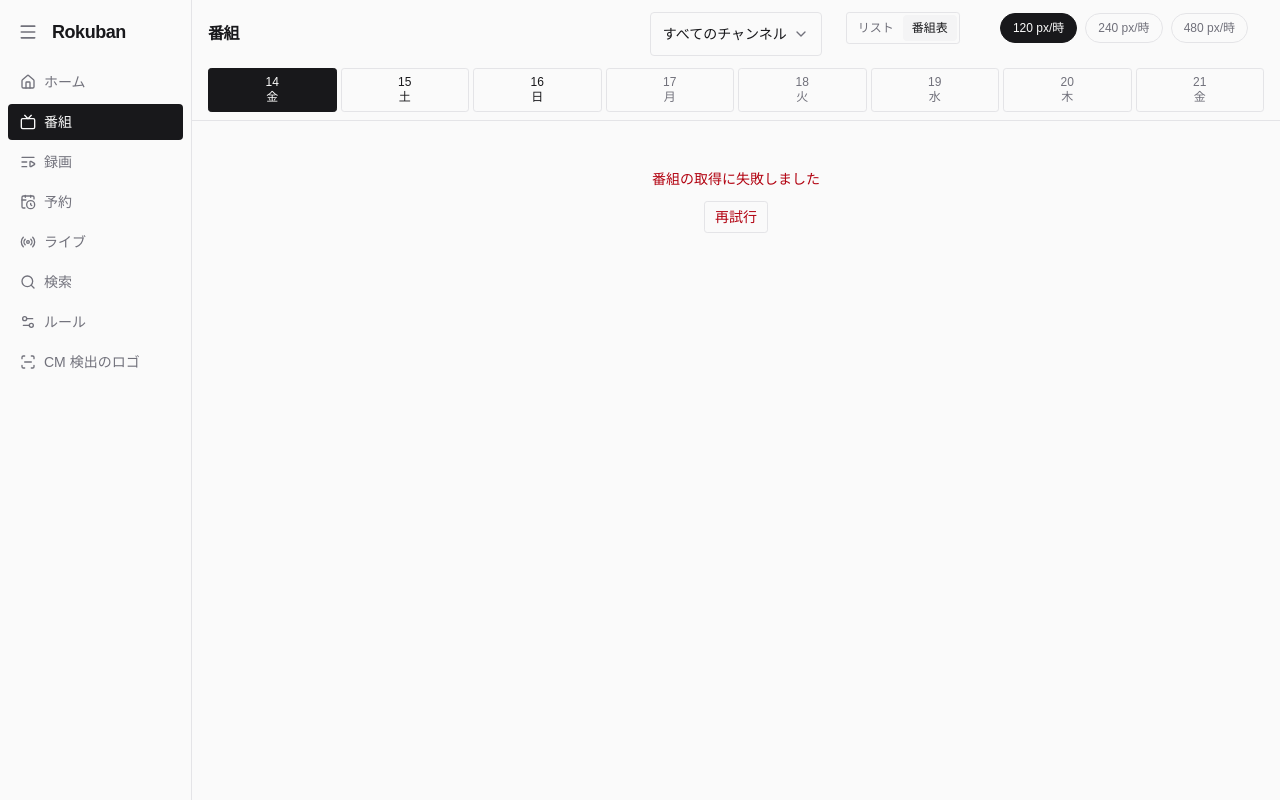
Scenario: ProgramsPage の表示形式 › グリッドの再試行は services の失敗も取り直す
Expected: the text "番組の取得に失敗しました" is shown, x1=652 y1=169 x2=820 y2=189
Click the button "再試行". click: (736, 217)
box: x1=704 y1=201 x2=768 y2=233
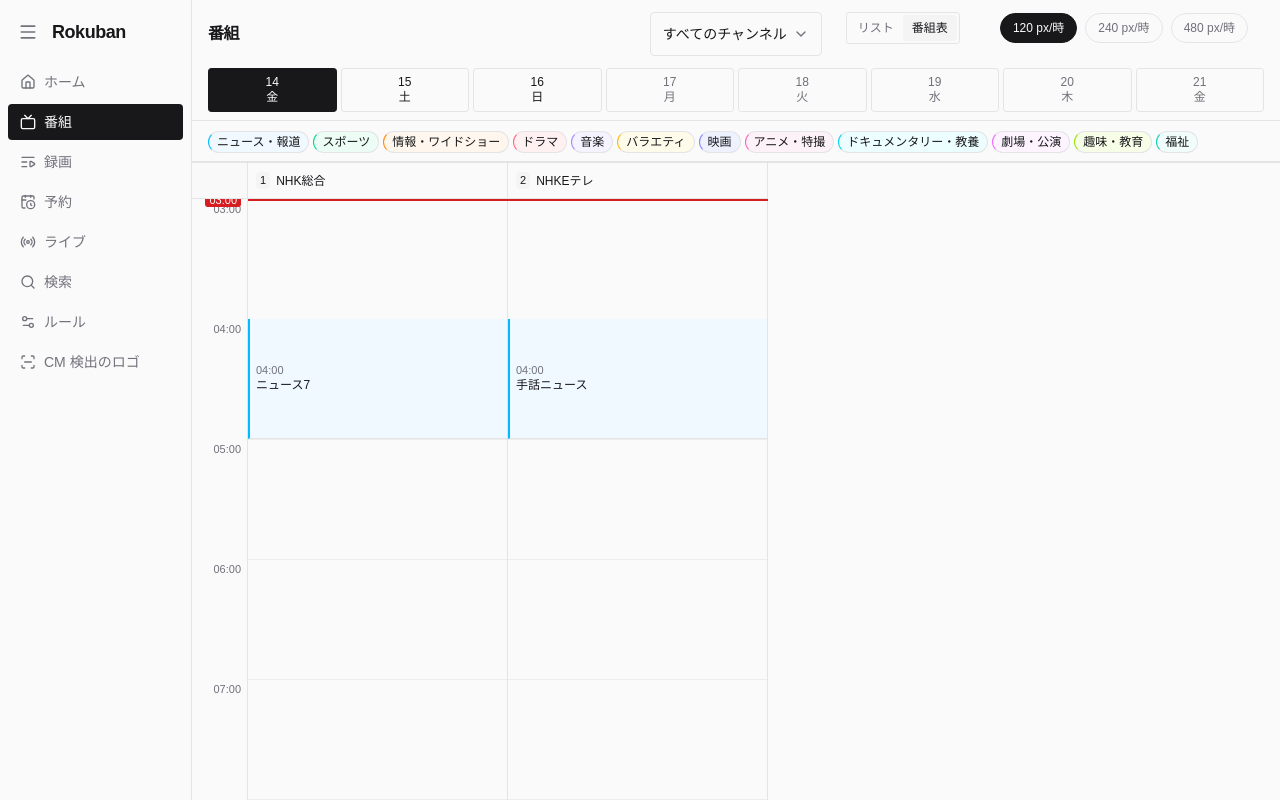
Expected: the element with test id "program-grid" is shown
